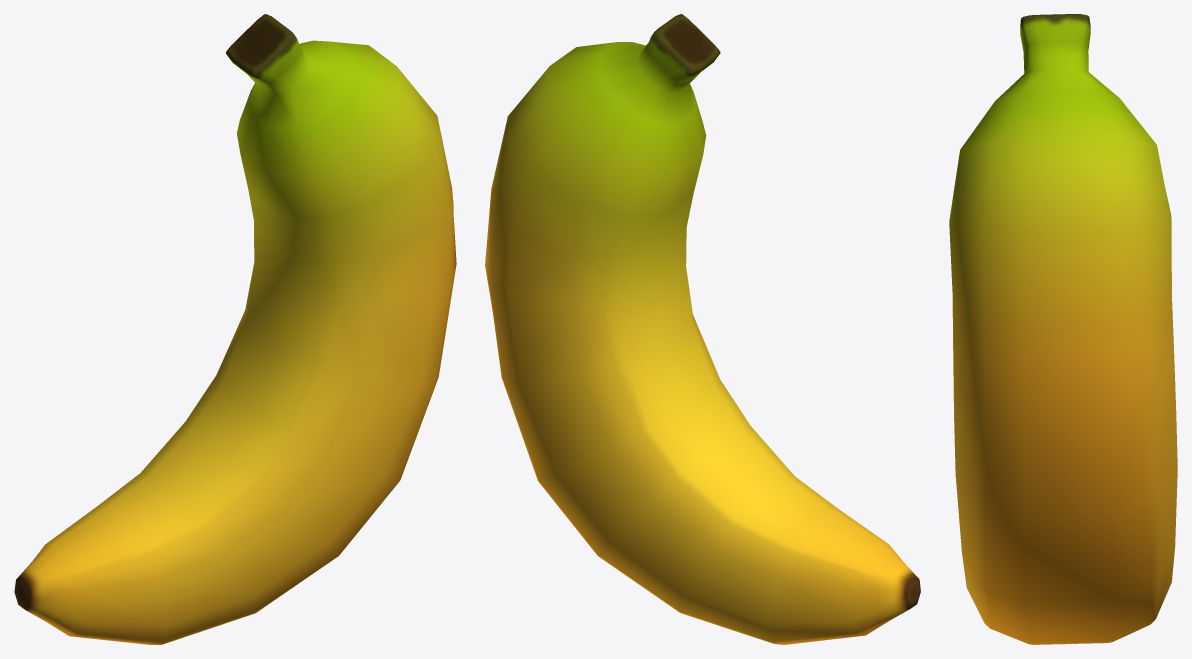
Rendered from Bb-Banana.glb.
The picture shows the model from 3 angles, left to right: view 1: azimuth 30°, elevation 25°; view 2: azimuth 150°, elevation 25°; view 3: azimuth 270°, elevation 25°; orthographic projection. The views are drawn at different scales.
Parts seen in each view (by area): view 1: Banana; view 2: Banana; view 3: Banana.
Part boxes in pixels (x1,y1,x2,y2): Banana: (14, 14, 456, 644); Banana: (485, 14, 920, 644); Banana: (949, 14, 1177, 644).
Size of the model in its own units: 3.6 by 4.81 by 1.49.
1 material, 1 textured.
